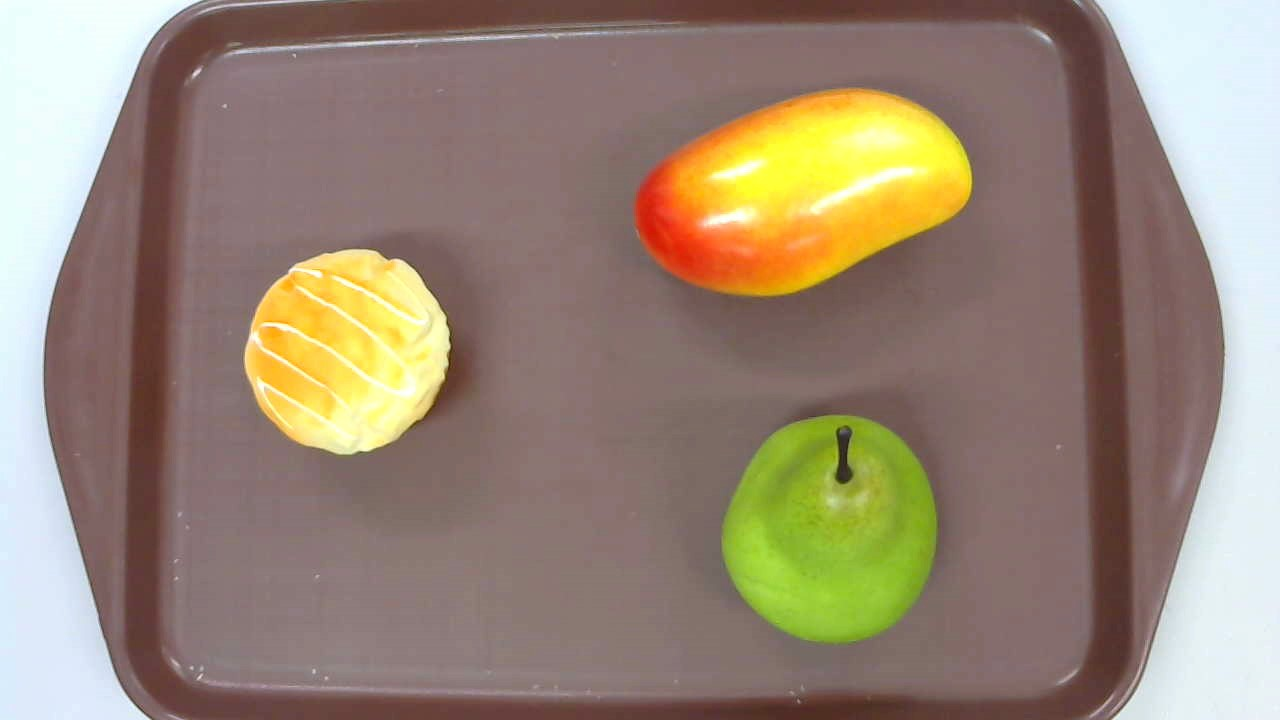cupcake: (244, 249, 451, 456)
green pear: (721, 415, 937, 643)
red mango: (634, 87, 972, 297)
